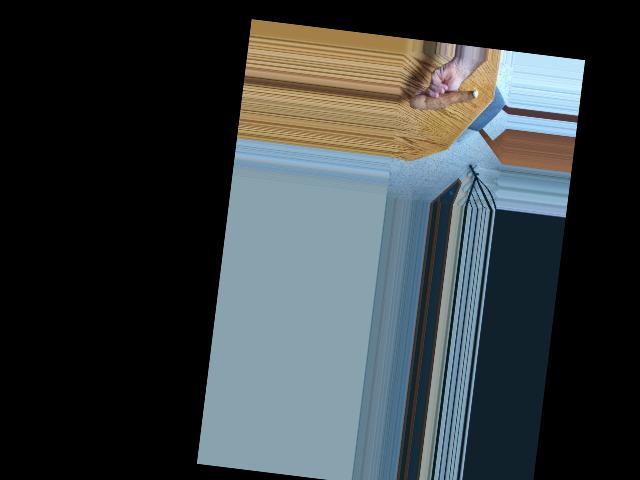sweet_potato: (410, 81, 480, 119)
